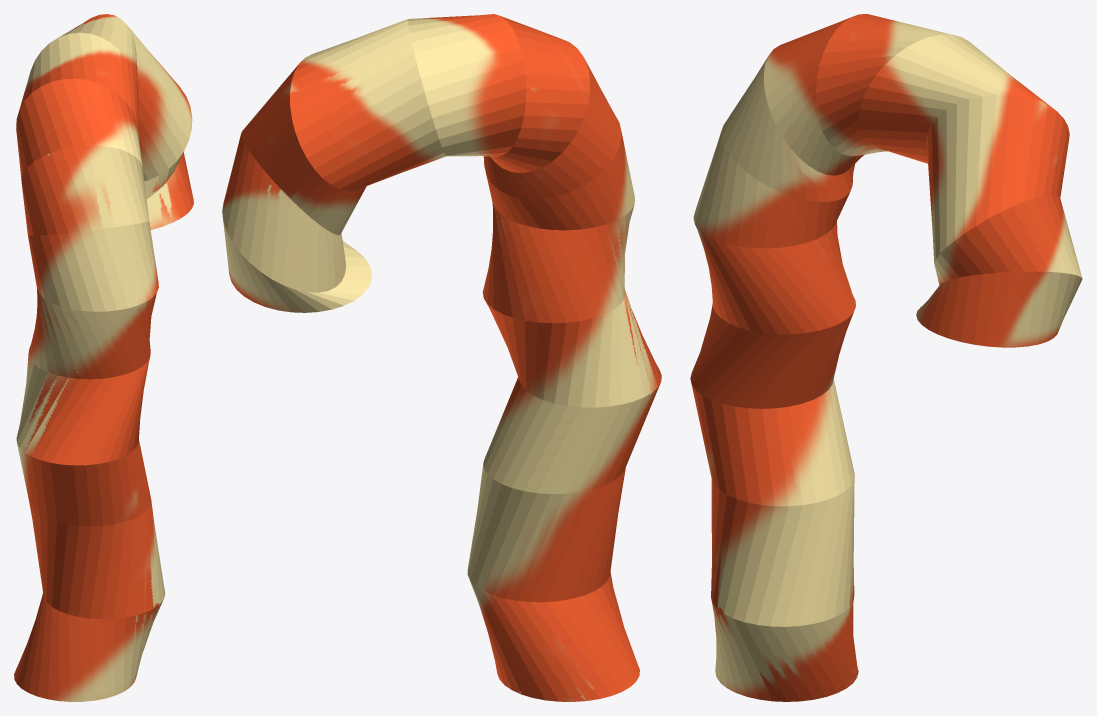
The model's file is CANE.fbx.
3 views of the same model, side by side, from view 1: azimuth 30°, elevation 25°; view 2: azimuth 150°, elevation 25°; view 3: azimuth 270°, elevation 25° (orthographic). The views are drawn at different scales.
Visible parts, largest first — view 1: Cylinder; view 2: Cylinder; view 3: Cylinder.
Part boxes in pixels (box(x1,y1,x2,y2)): Cylinder: box(14, 14, 193, 701); Cylinder: box(222, 14, 661, 701); Cylinder: box(690, 14, 1082, 701).
Size of the model in its own units: 503 by 1080 by 566.
1 material, 1 textured.
